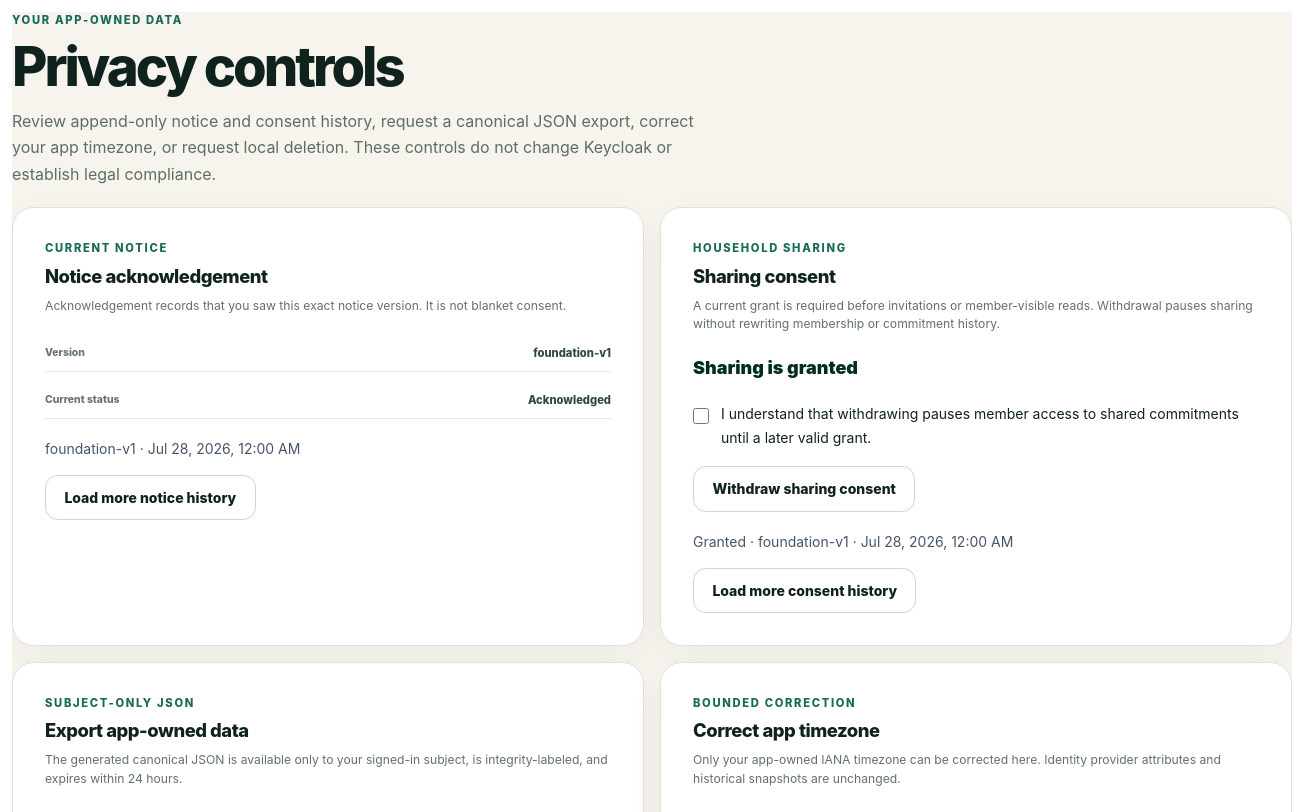
Test case: PrivacyControlScreen pagination › announces a failed history page and leaves its retry control available
Click the button "Load more notice history": point(150, 498) [45,475,256,520]
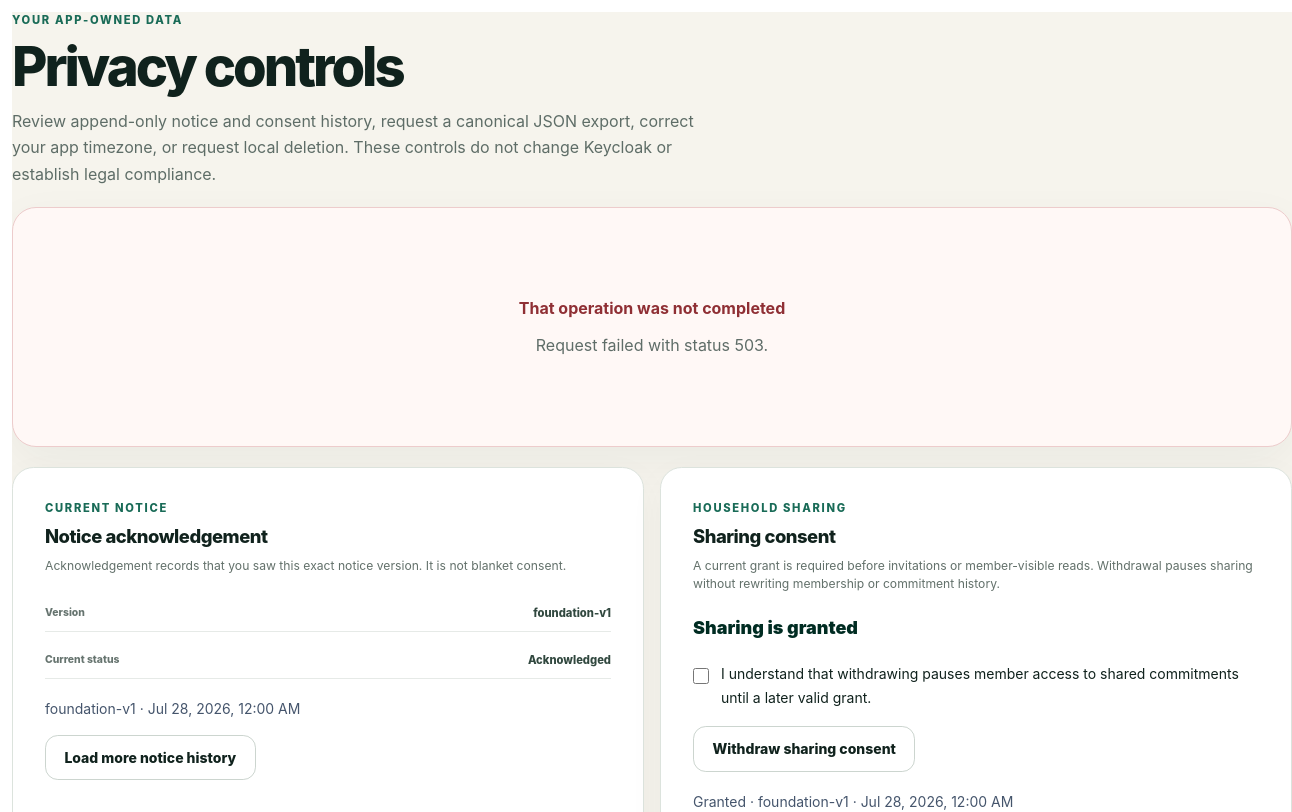
Expected: the button "Load more notice history" is enabled, [45,735,256,780]
Expected: the text "That operation was not completed" is shown, [519,296,785,320]
